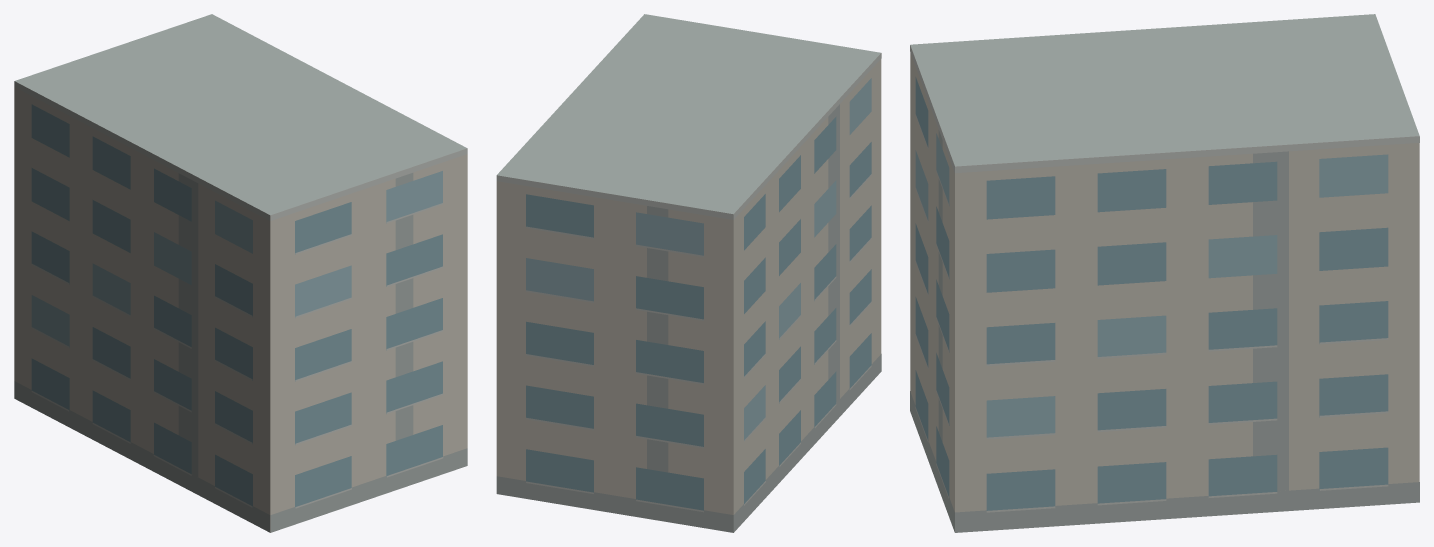
Rendered from survey-upis-32577081.glb.
3 views of the same model, side by side, from view 1: azimuth 30°, elevation 25°; view 2: azimuth 150°, elevation 25°; view 3: azimuth 270°, elevation 25° (orthographic). The views are drawn at different scales.
Parts seen in each view (by area): view 1: survey-upis-32577081.tmp; view 2: survey-upis-32577081.tmp; view 3: survey-upis-32577081.tmp.
Boxes of the visible parts, <box> form: survey-upis-32577081.tmp: <box>14,14,467,532</box>; survey-upis-32577081.tmp: <box>496,14,881,532</box>; survey-upis-32577081.tmp: <box>910,14,1419,532</box>.
Size of the model in its own units: 11.89 by 13.3 by 16.78.
